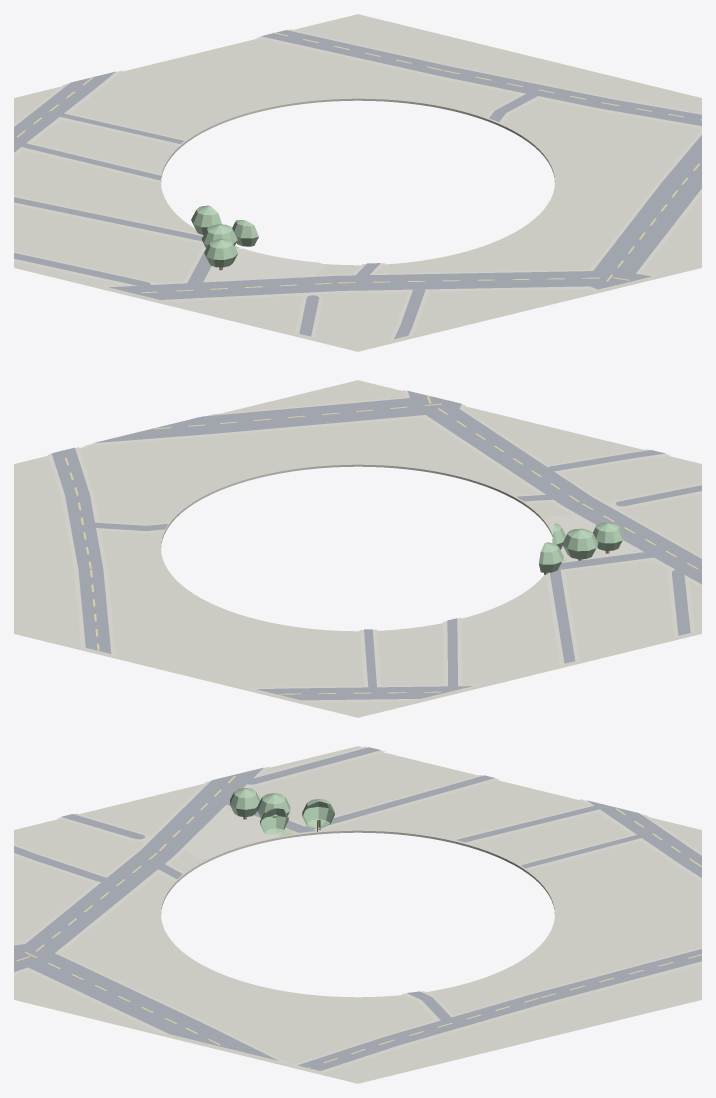
File: surround-P13.glb
The picture shows the model from 3 angles, top to bottom: view 1: azimuth 30°, elevation 25°; view 2: azimuth 150°, elevation 25°; view 3: azimuth 270°, elevation 25°; orthographic projection.
Parts seen in each view (by area): view 1: P13_ground; view 2: P13_ground; view 3: P13_ground.
Part boxes in pixels (x1,y1,x2,y2): P13_ground: [14, 14, 701, 351]; P13_ground: [14, 380, 701, 717]; P13_ground: [14, 746, 701, 1083].
Size of the model in its own units: 16.16 by 0.7536 by 14.
1 material, 1 textured.
